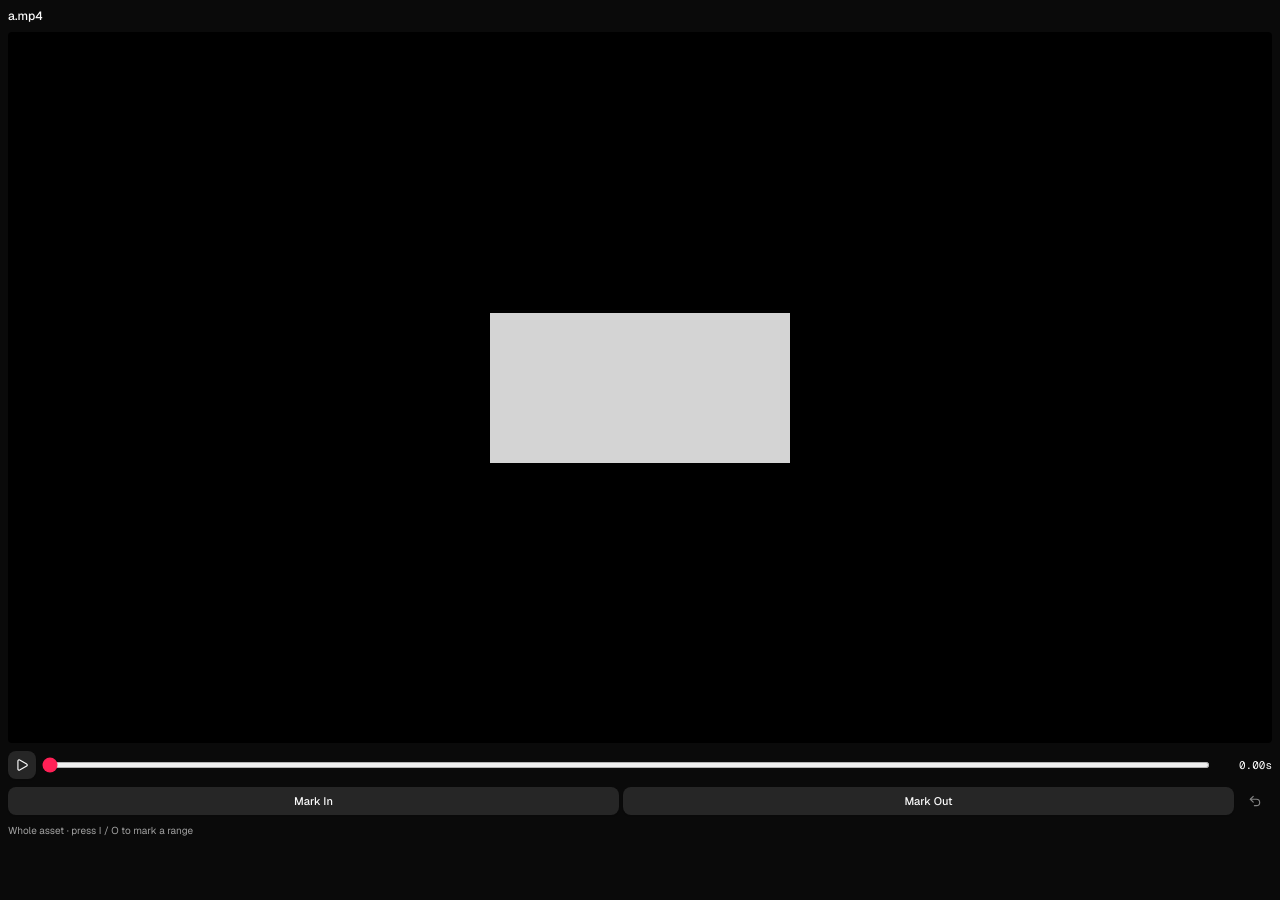
Test: Source monitor (three-point editing, 0.7.2) › Mark In / Mark Out / Clear update the marks and the span readout
The image size is (1280, 900).
Check: the button with test id "source-clear" is disabled, box x1=1238 y1=787 x2=1272 y2=815
Check: the text with test id "source-span" shows "Whole asset", box x1=8 y1=824 x2=193 y2=837
Set the slider named "Source position" to "3" at {"x": 396, "y": 765}, box x1=42 y1=762 x2=1210 y2=768
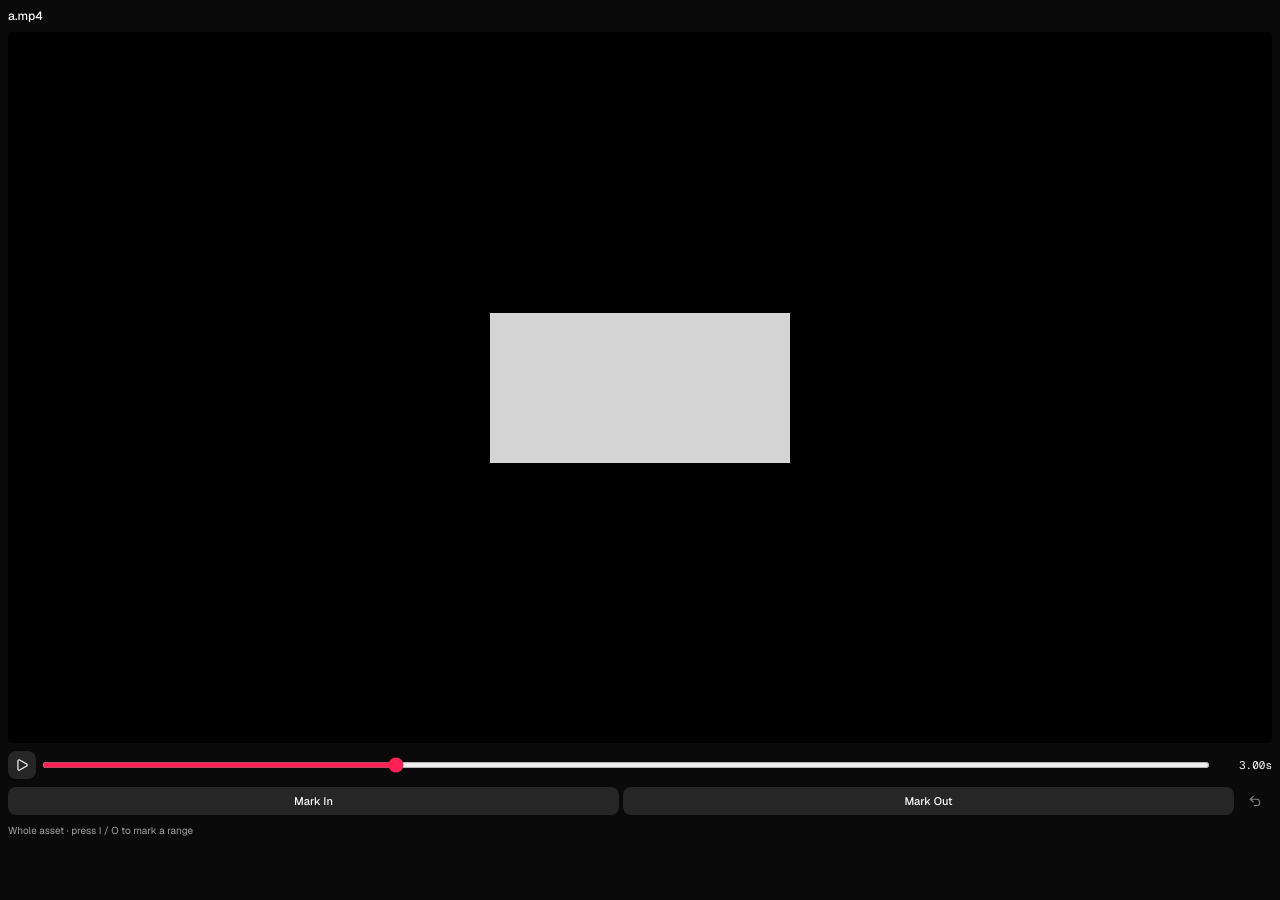
Check: the text with test id "source-time" reads "3.00s", box x1=1239 y1=758 x2=1272 y2=772
Click the button with test id "source-mark-in".
click(314, 801)  # box x1=8 y1=787 x2=619 y2=815
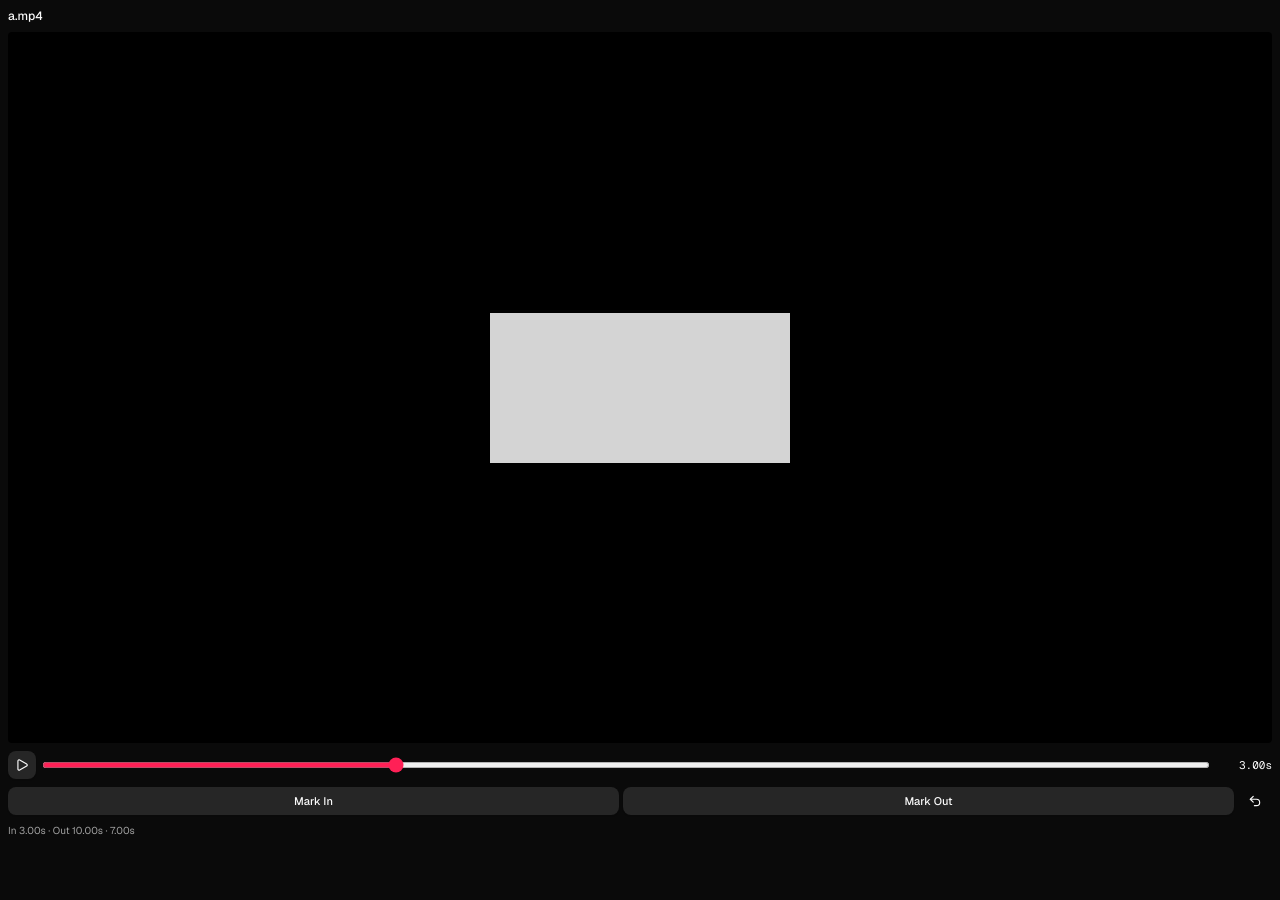
Set the slider named "Source position" to "7" at {"x": 856, "y": 765}, box x1=42 y1=762 x2=1210 y2=768
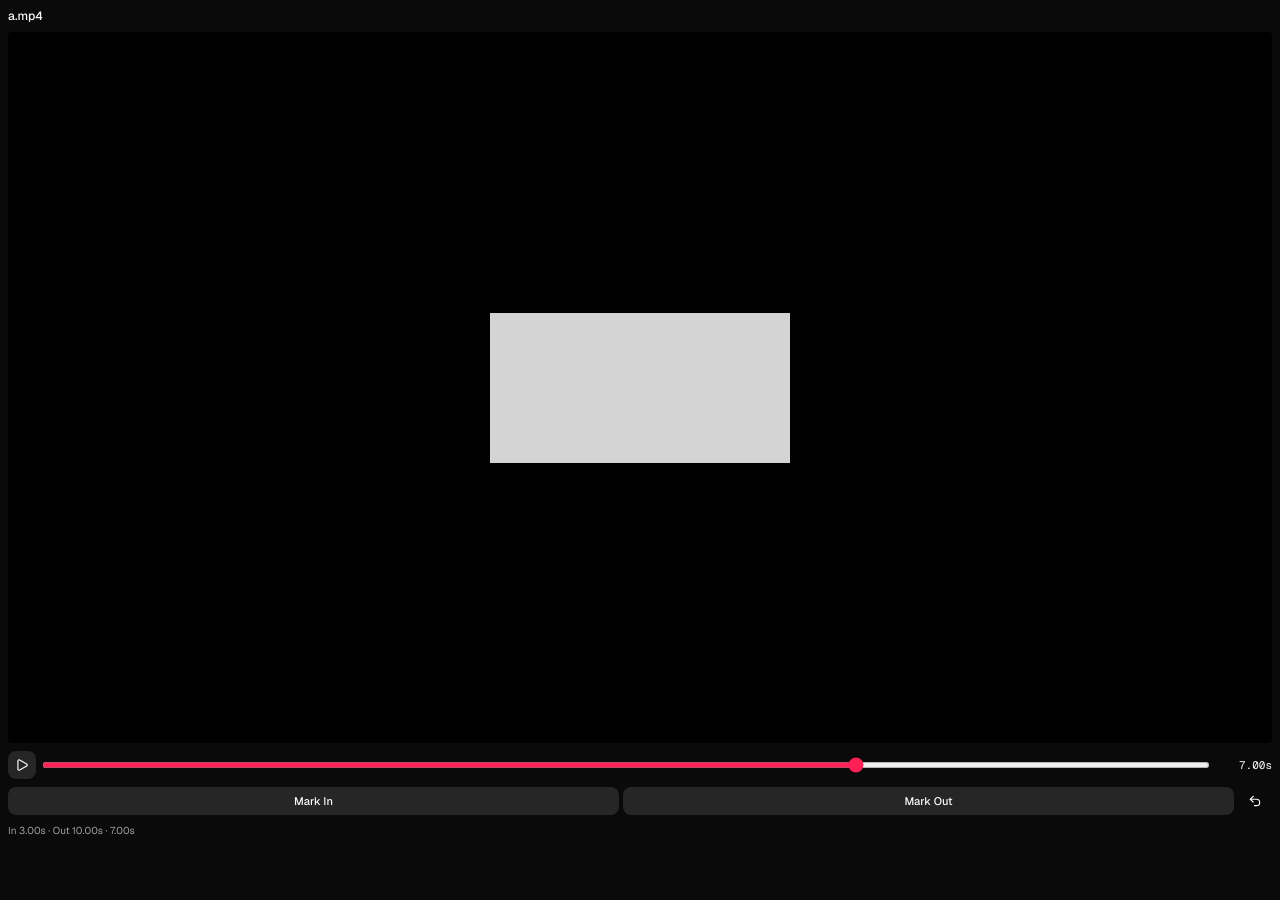
Click the button with test id "source-mark-out".
click(928, 801)  # box x1=623 y1=787 x2=1234 y2=815
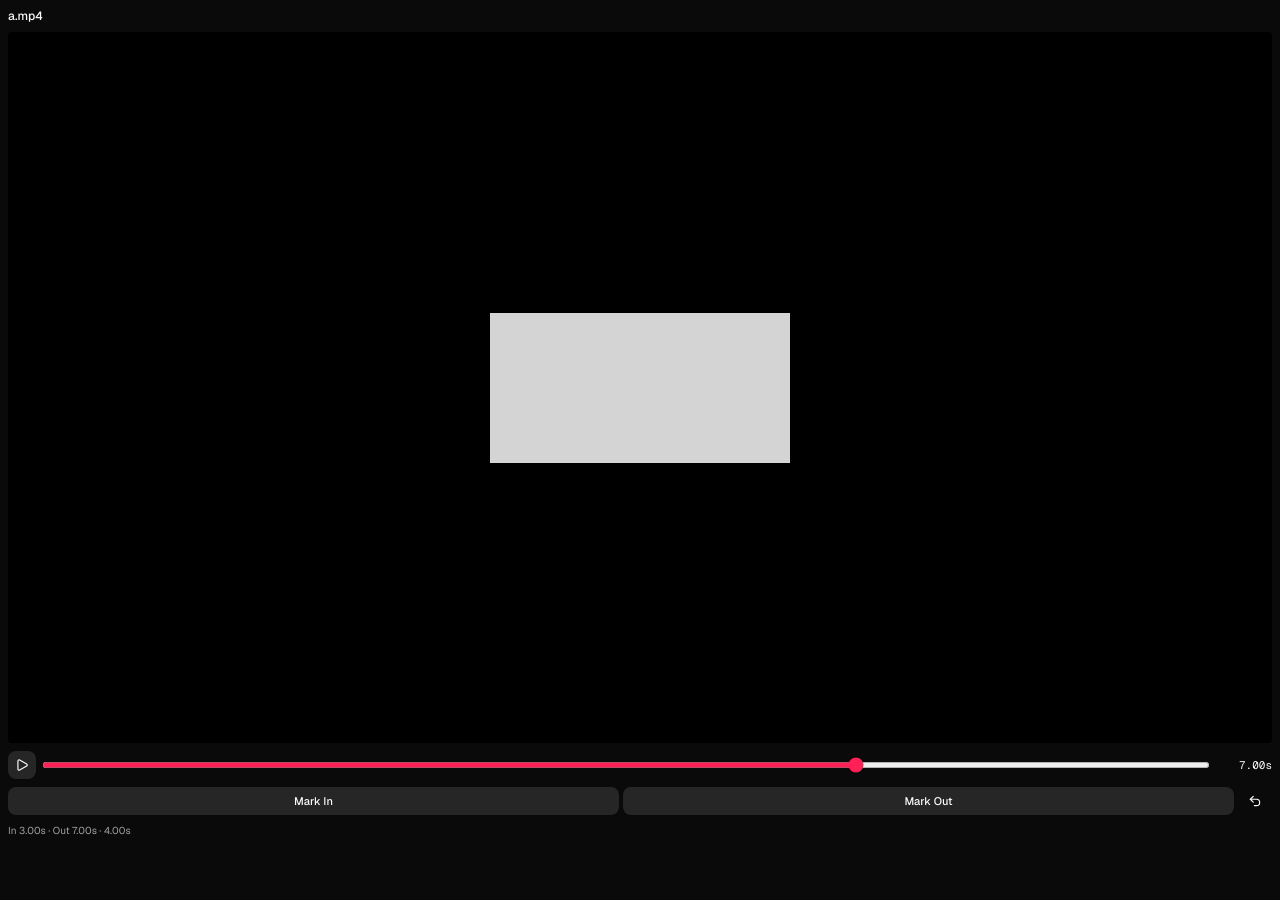
Check: the button with test id "source-clear" is enabled
Check: the text with test id "source-span" reads "In 3.00s · Out 7.00s · 4.00s", box x1=8 y1=824 x2=131 y2=837
Click the button with test id "source-clear".
click(1255, 801)  # box x1=1238 y1=787 x2=1272 y2=815
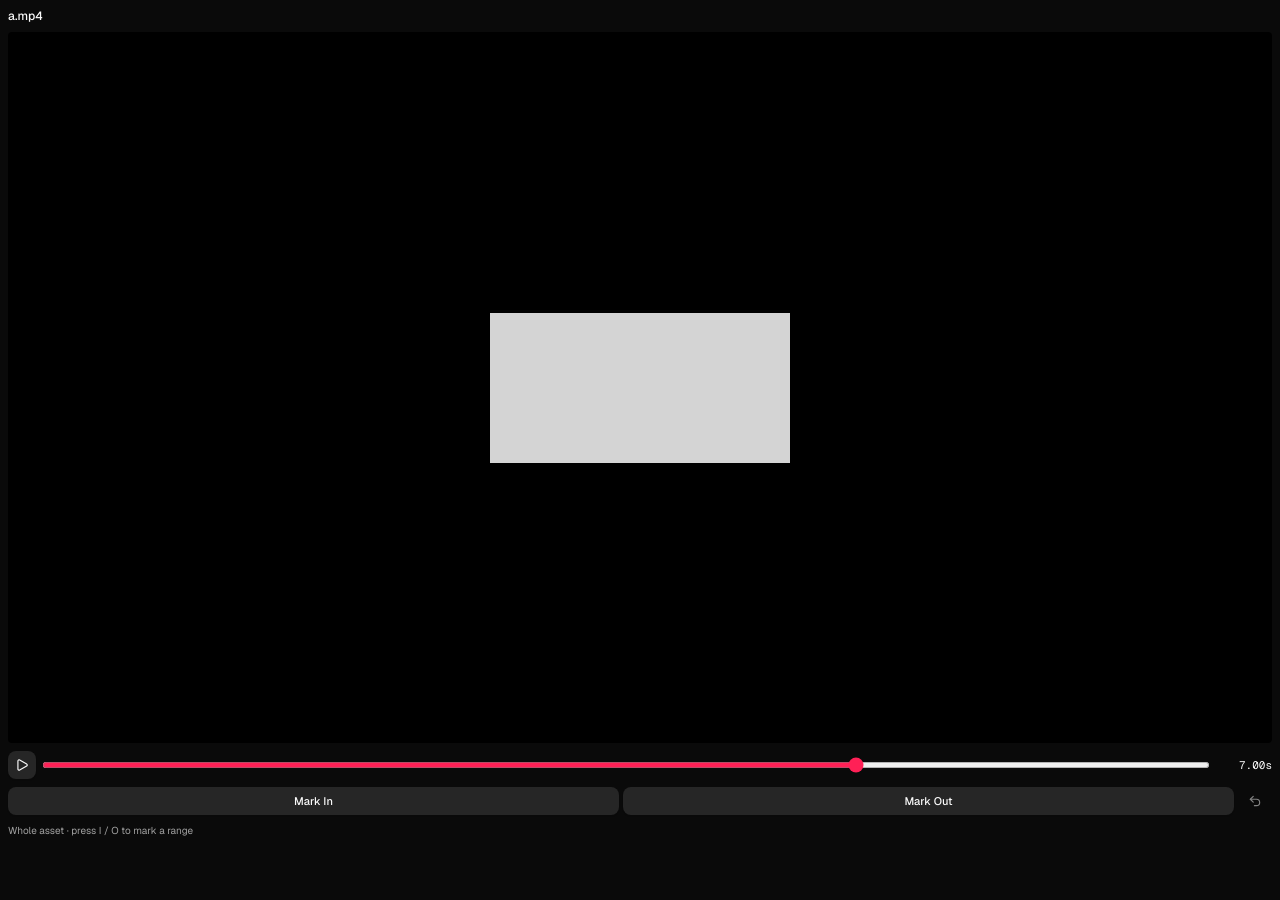
Check: the text with test id "source-span" shows "Whole asset", box x1=8 y1=824 x2=193 y2=837
